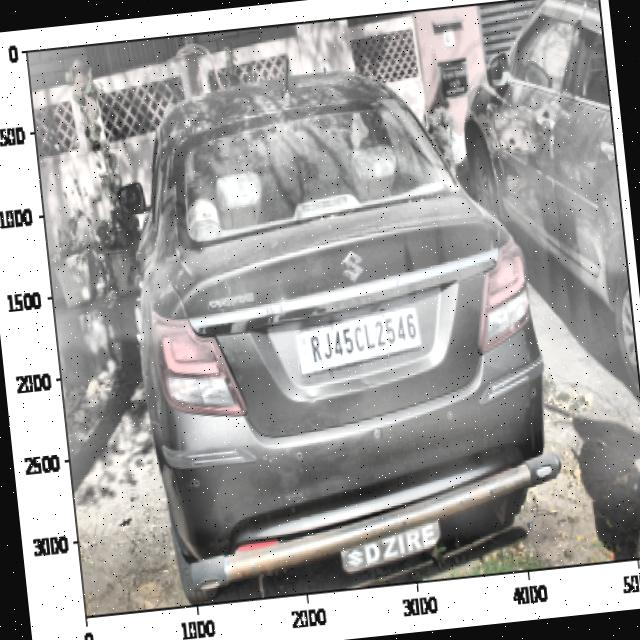license_plate: (302, 306, 423, 371)
